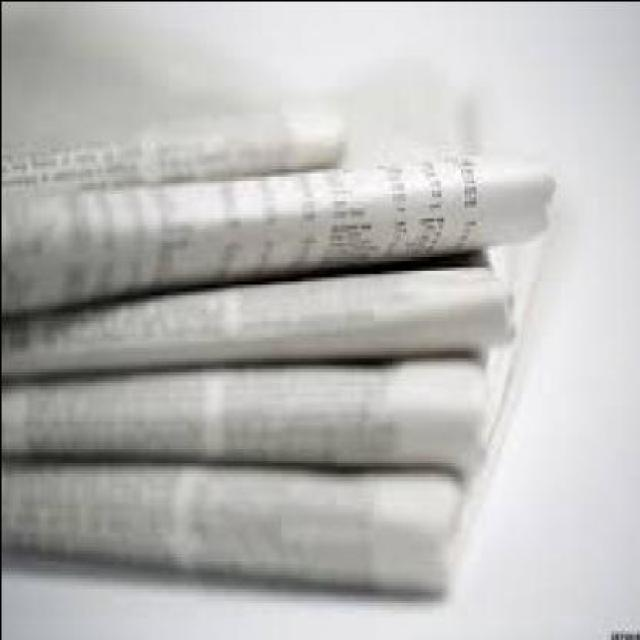PAPER: (1, 150, 552, 308), (2, 449, 516, 598), (2, 257, 524, 371), (0, 371, 498, 482), (1, 106, 348, 189)
